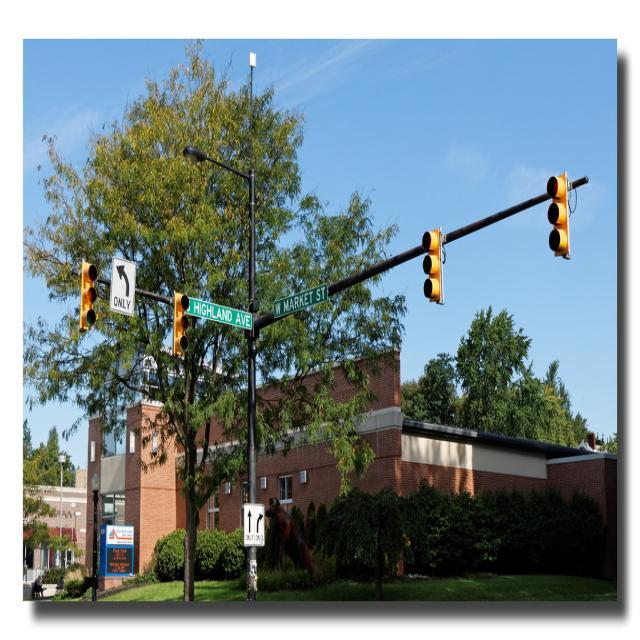traffic light: (544, 176, 570, 253), (421, 230, 445, 303), (77, 260, 97, 329), (168, 291, 190, 351)
